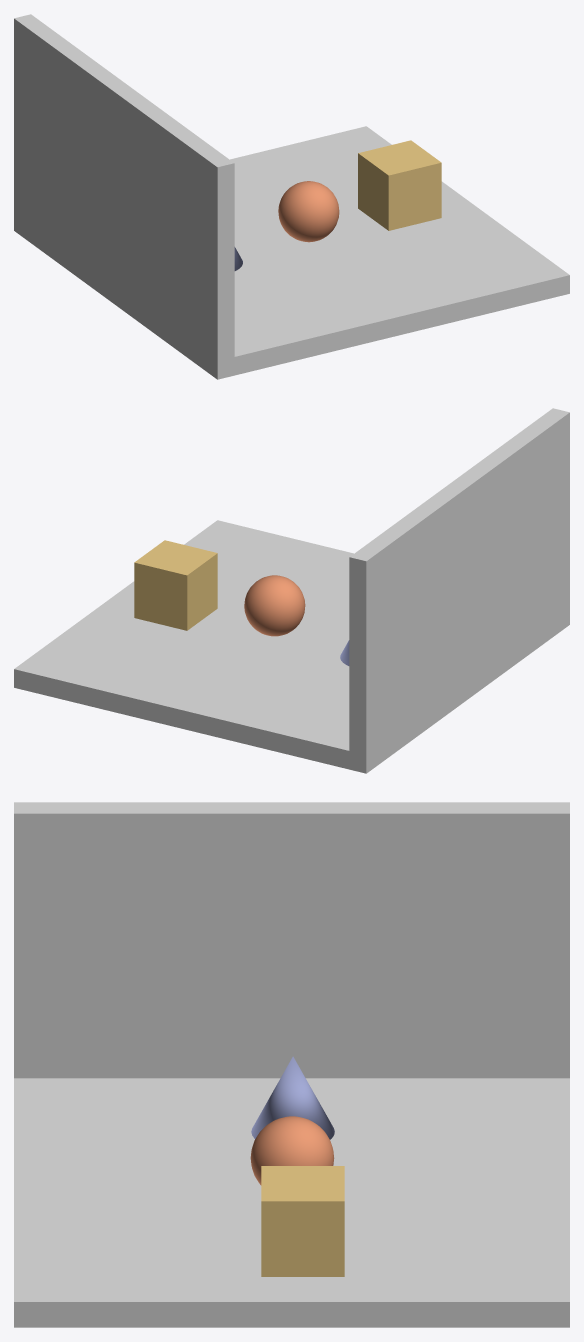
Rendered from testScene.fbx.
3 renders of one model, top to bottom at view 1: azimuth 30°, elevation 25°; view 2: azimuth 150°, elevation 25°; view 3: azimuth 270°, elevation 25°, orthographic. The views are drawn at different scales.
Visible parts, largest first — view 1: DaPlatform_Cube.001, DaCube_Cube.002, DaSphere_Sphere; view 2: DaPlatform_Cube.001, DaCube_Cube.002, DaSphere_Sphere; view 3: DaPlatform_Cube.001, DaCube_Cube.002, DaSphere_Sphere, Cone.
Part boxes in pixels (x1,y1,x2,y2): DaPlatform_Cube.001: [14, 14, 569, 379]; DaCube_Cube.002: [358, 140, 441, 230]; DaSphere_Sphere: [278, 181, 339, 242]; DaPlatform_Cube.001: [14, 408, 569, 773]; DaCube_Cube.002: [134, 540, 217, 630]; DaSphere_Sphere: [244, 575, 305, 636]; DaPlatform_Cube.001: [14, 802, 569, 1327]; DaCube_Cube.002: [261, 1166, 344, 1276]; DaSphere_Sphere: [250, 1116, 334, 1185]; Cone: [251, 1056, 334, 1139].
Size of the model in its own units: 264 by 152 by 264.
